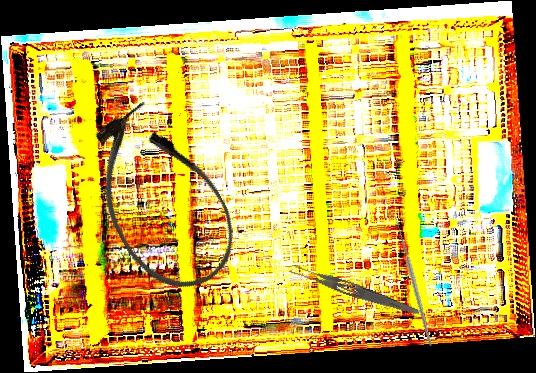Cannula: (68, 89, 254, 309)
Dressing Forceps: (288, 261, 422, 318)
Hook Surgical: (356, 211, 464, 348)
